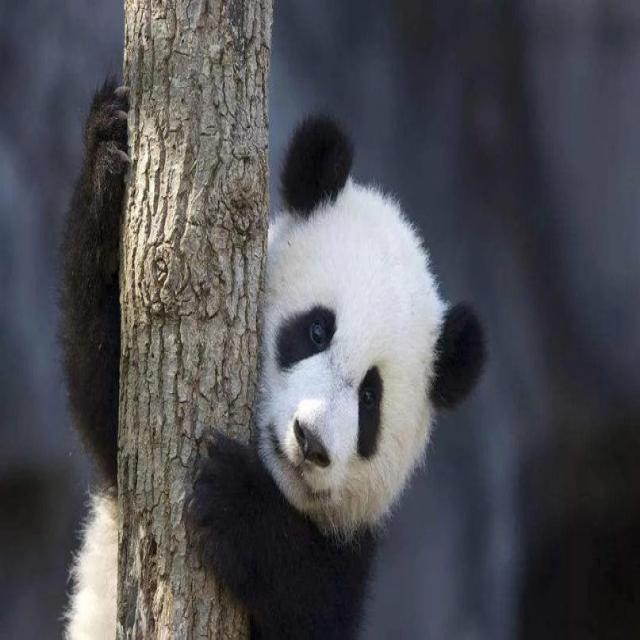panda: (54, 66, 490, 640)
